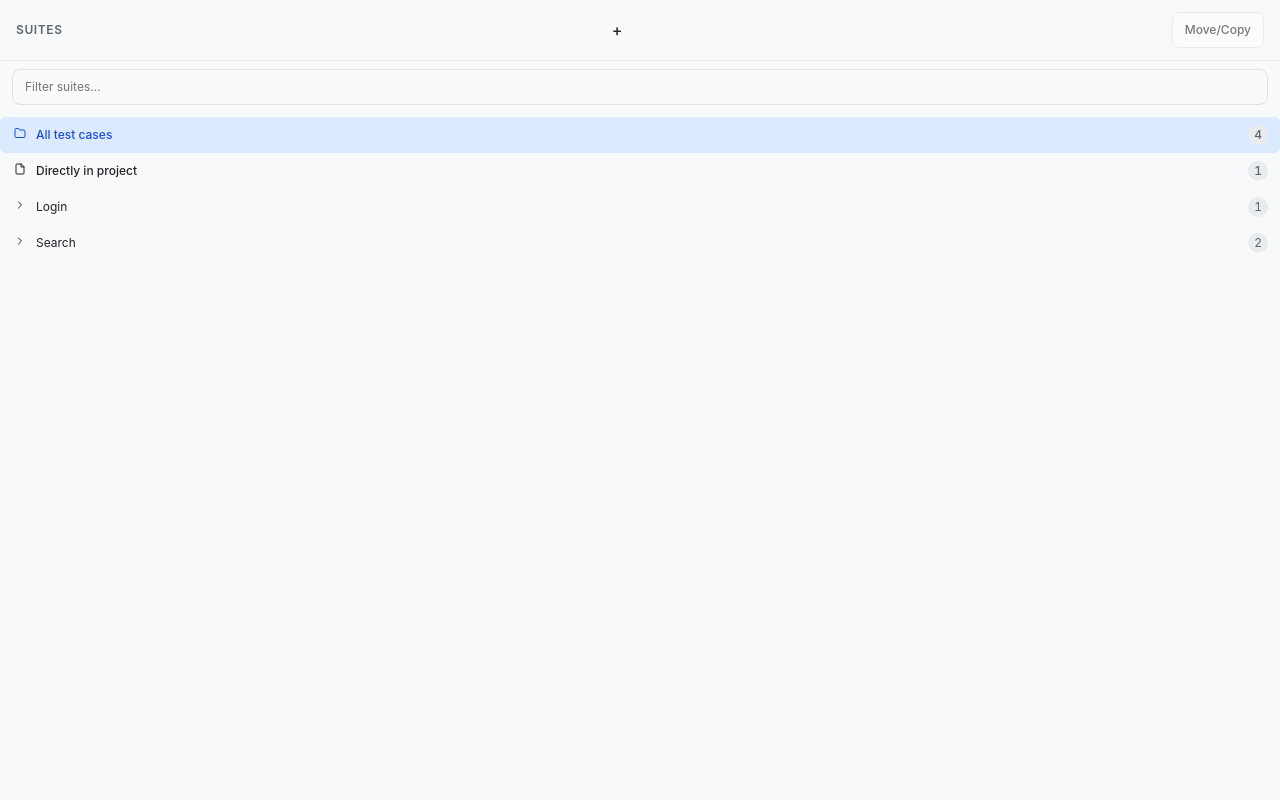
Test case: SuiteTree › refuses a name the API cannot derive an ID from, and sends no request
This screenshot has width=1280, height=800.
Expected: the button "Login 1" is shown, [0, 189, 1279, 225]
Click the button named "New suite" at (617, 30), box [603, 15, 632, 45]
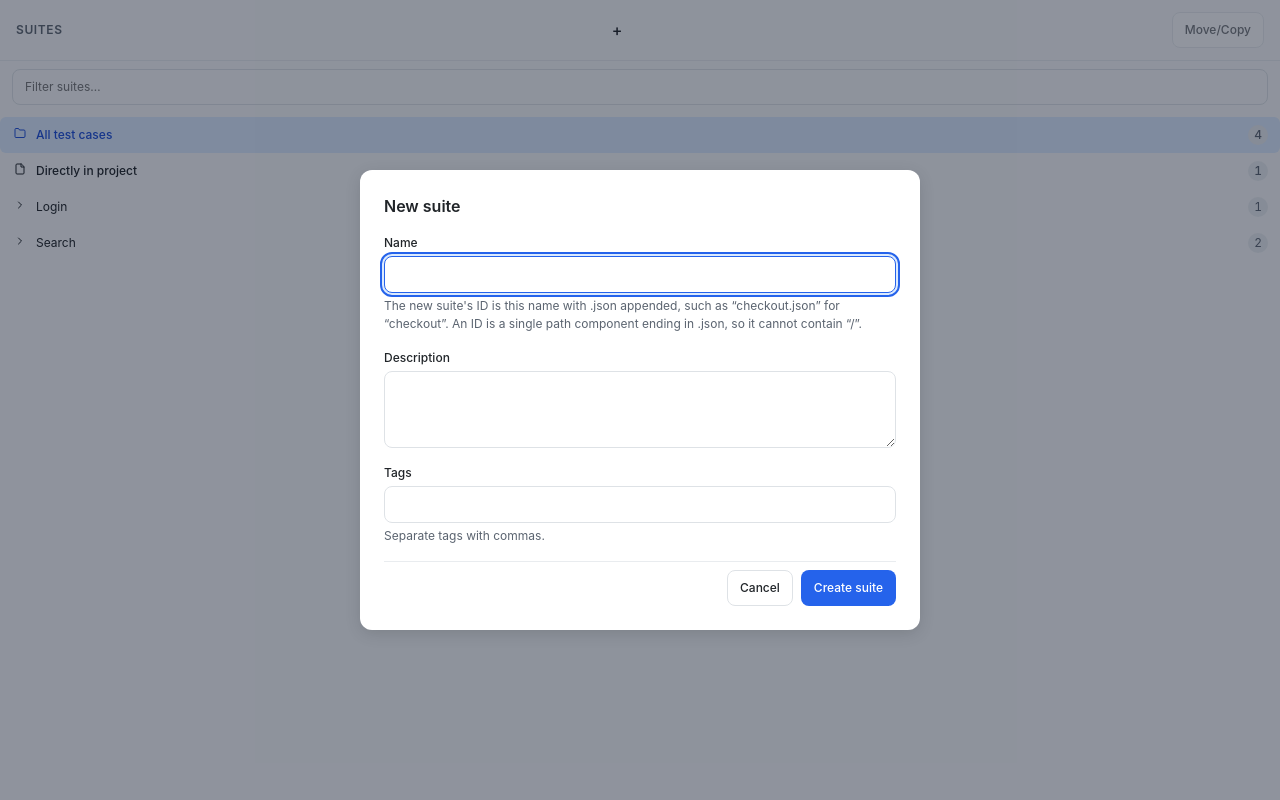
Type "checkout/flow" into the field labelled "Name" at (640, 275), box [384, 256, 896, 293]
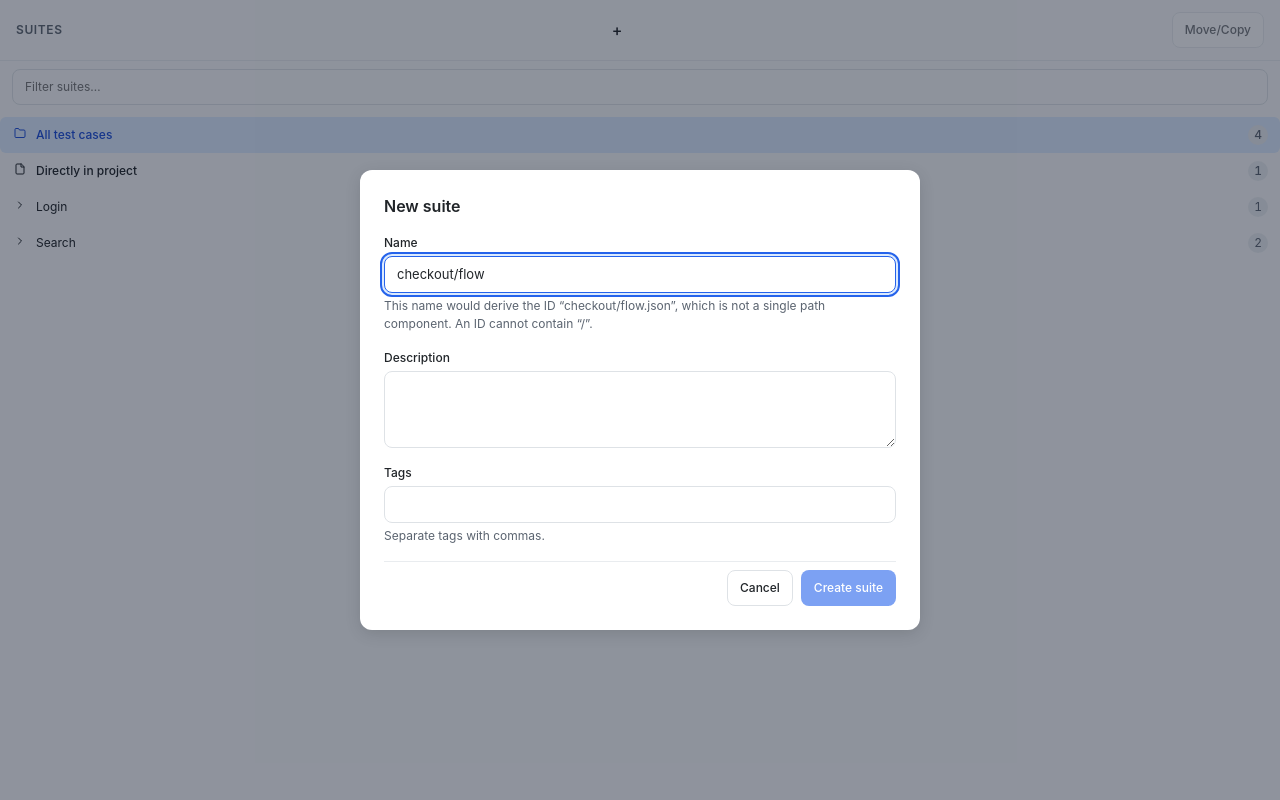
Expected: the message shows "checkout/flow.json", [384, 298, 825, 331]
Expected: the button "Create suite" is disabled, [801, 570, 896, 606]
Submit the form named "Create suite form", box [384, 234, 896, 606]
Expected: the dialog "New suite" is shown, [360, 170, 920, 630]
Replace the text in the field labelled "Name" with "Checkout flow" at (640, 275), box [384, 256, 896, 293]
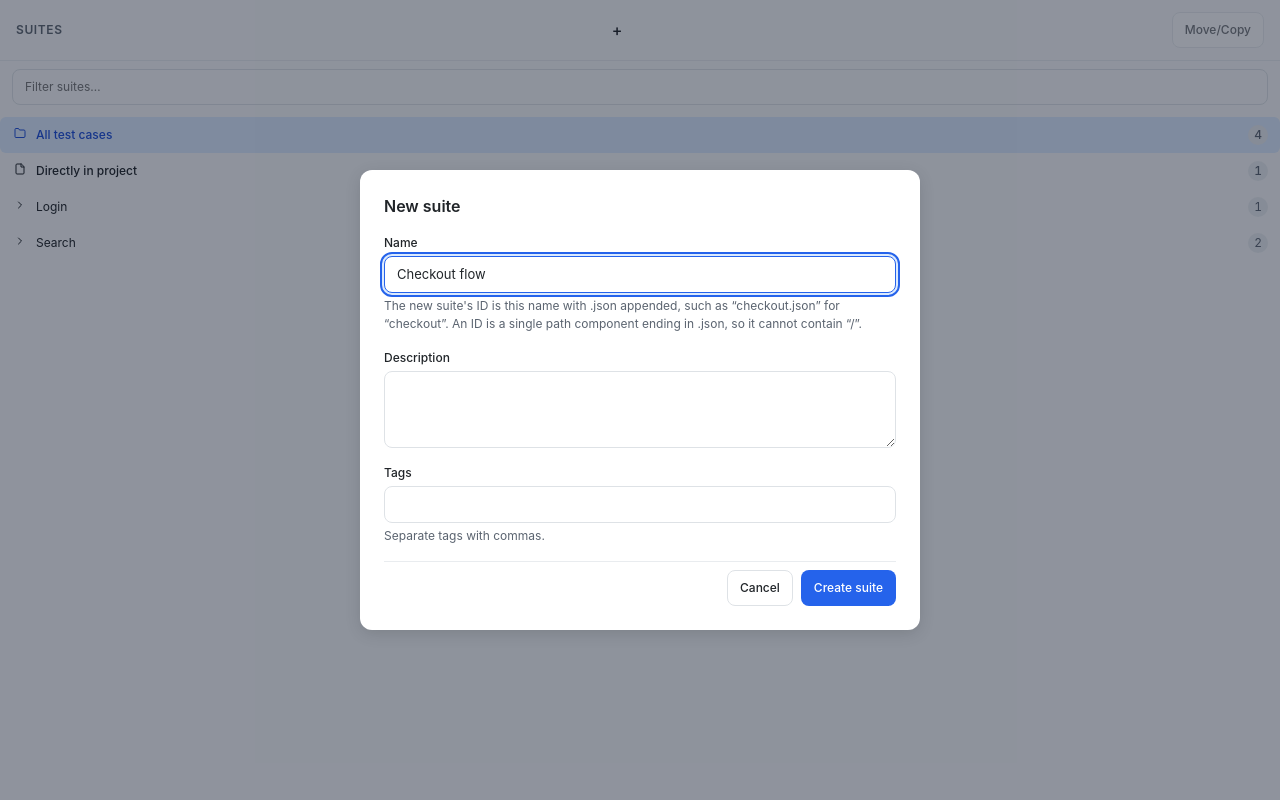
Expected: the button "Create suite" is enabled, [801, 570, 896, 606]
